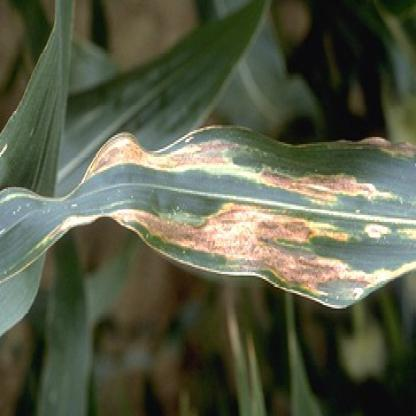Corn leaf blight: (1, 124, 415, 301)
